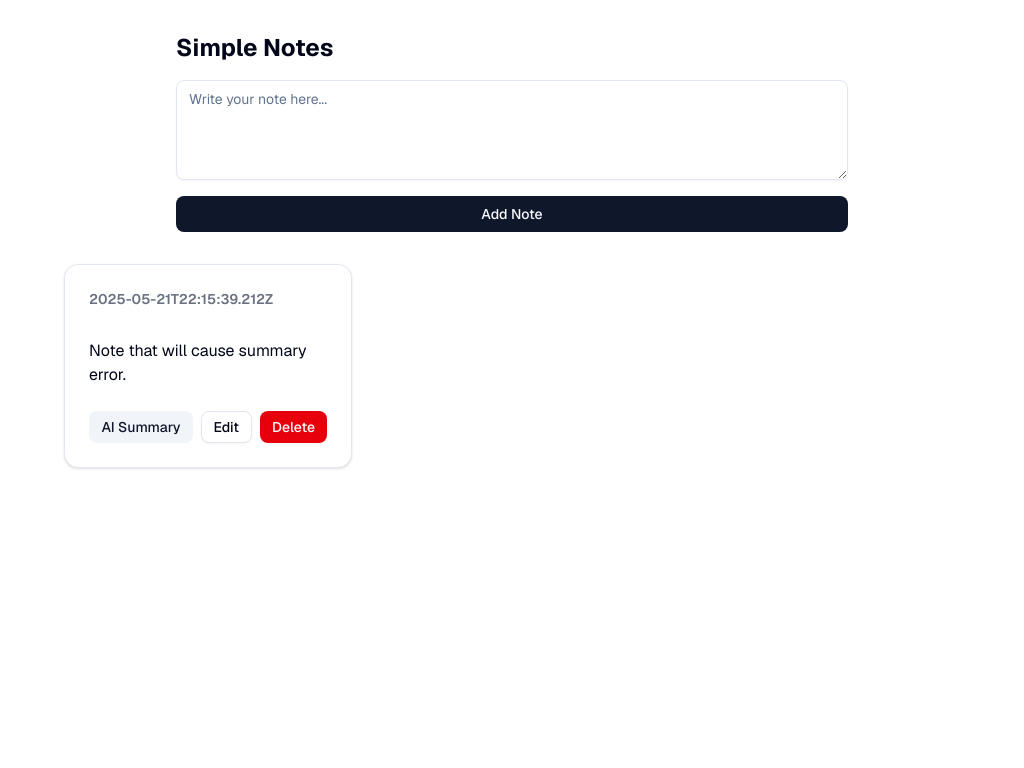
Home Page Integration Tests › displays error in AI summary dialog if getMockSummary fails
Expected: the text "Note that will cause summary error." is shown, x1=89 y1=339 x2=327 y2=387
Click the button "AI Summary". click: (141, 427)
box: x1=89 y1=411 x2=193 y2=443
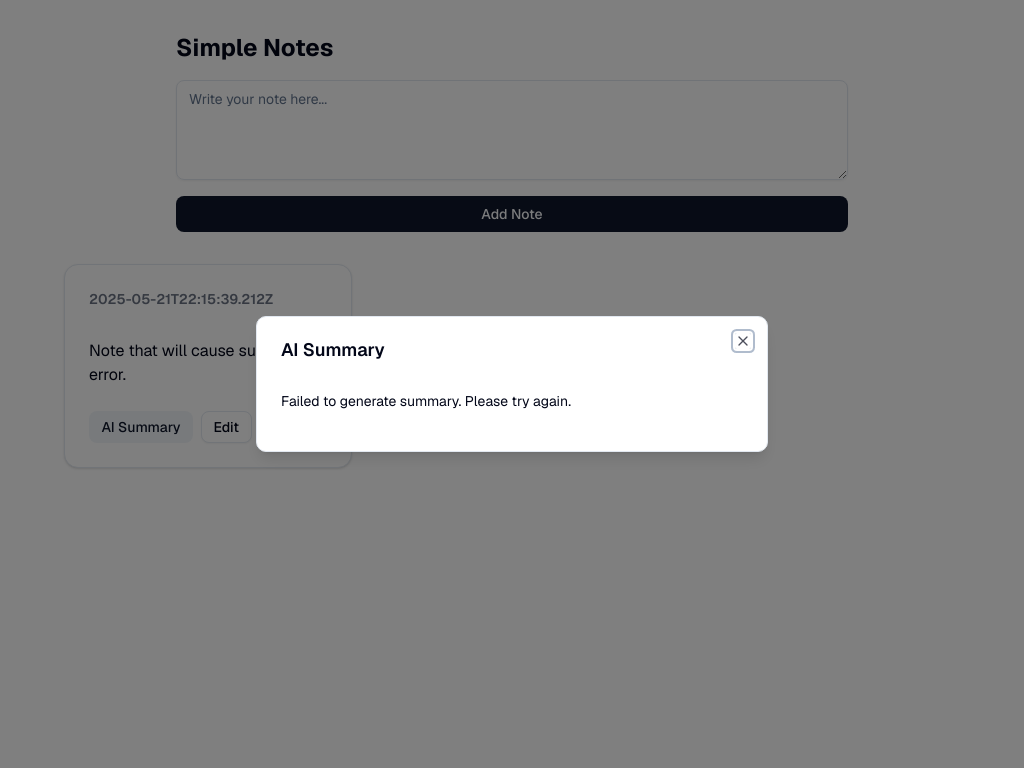
Expected: the dialog "AI Summary Failed to generate summary. Please try again." is shown, x1=256 y1=316 x2=768 y2=452
Expected: the text "Failed to generate summary. Please try again." is shown, x1=281 y1=392 x2=571 y2=410
